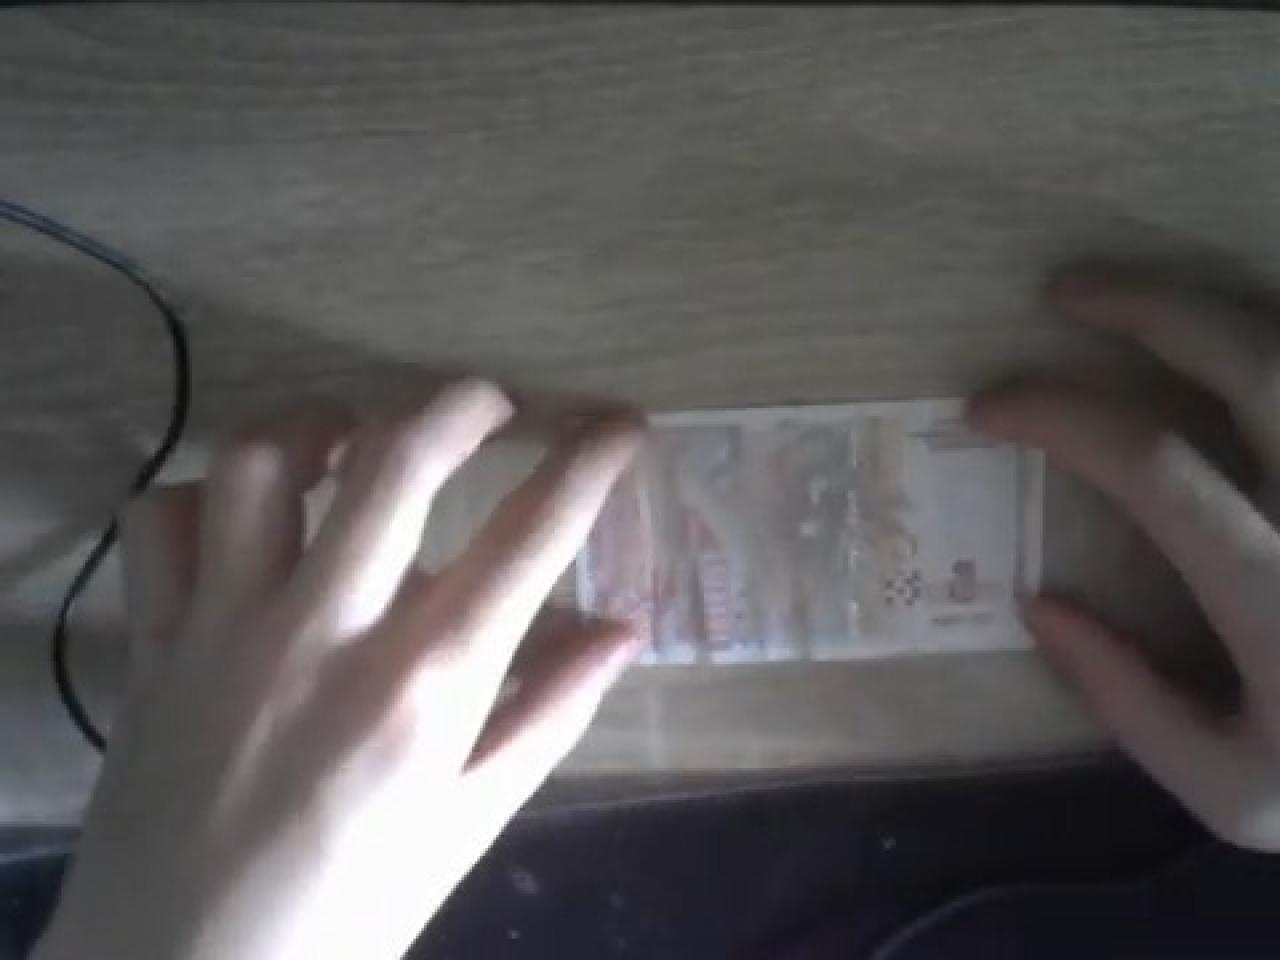5leva: (645, 397, 1048, 664)
